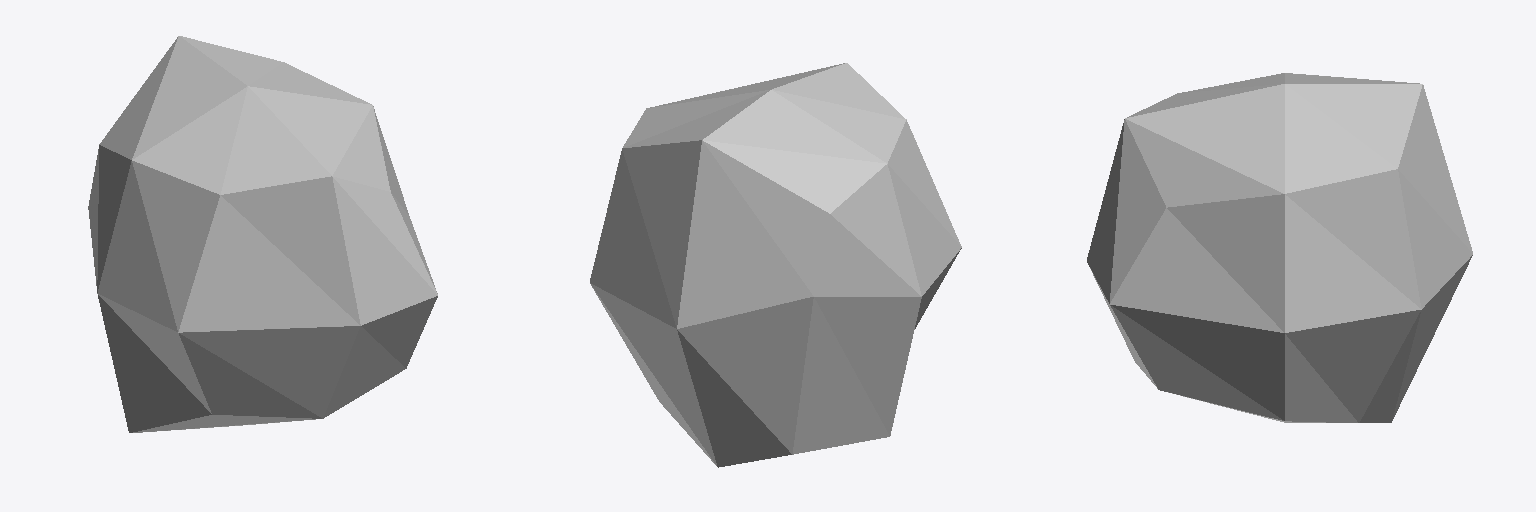
The model's file is gib.obj.
The picture shows the model from 3 angles: view 1: azimuth 30°, elevation 25°; view 2: azimuth 150°, elevation 25°; view 3: azimuth 270°, elevation 25°; orthographic projection.
Visible parts, largest first — view 1: Gib.003; view 2: Gib.003; view 3: Gib.003.
Boxes of the visible parts, box(x1,y1,x2,y2) form: Gib.003: box(88, 36, 437, 432); Gib.003: box(590, 63, 961, 467); Gib.003: box(1087, 73, 1472, 422).
Bounding box in the file's own units: 0.4826 × 0.5 × 0.5174.